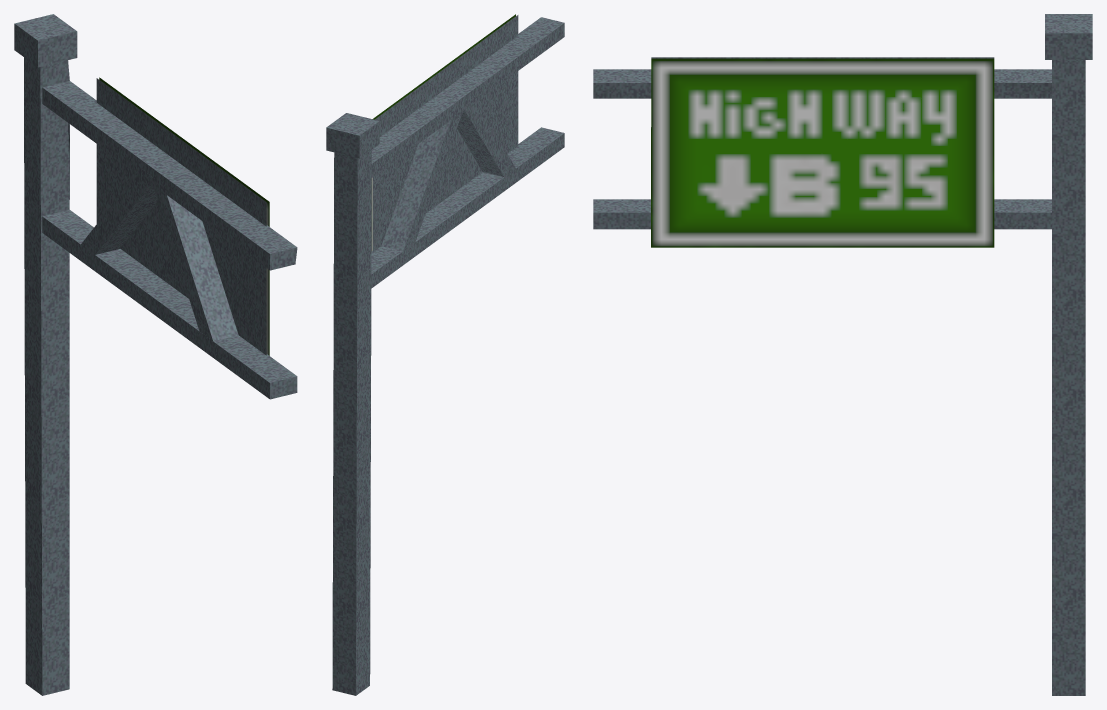
The model's file is BGN_HWAY IN.fbx.
3 views of the same model, side by side, from view 1: azimuth 30°, elevation 25°; view 2: azimuth 150°, elevation 25°; view 3: azimuth 270°, elevation 25° (orthographic). The views are drawn at different scales.
Parts seen in each view (by area): view 1: BGN_HWAY_IN; view 2: BGN_HWAY_IN; view 3: BGN_HWAY_IN.
Boxes of the visible parts, box(x1,y1,x2,y2) form: BGN_HWAY_IN: box(14, 14, 297, 695); BGN_HWAY_IN: box(326, 14, 564, 695); BGN_HWAY_IN: box(593, 14, 1092, 695).
Size of the model in its own units: 41.39 by 668 by 454.
